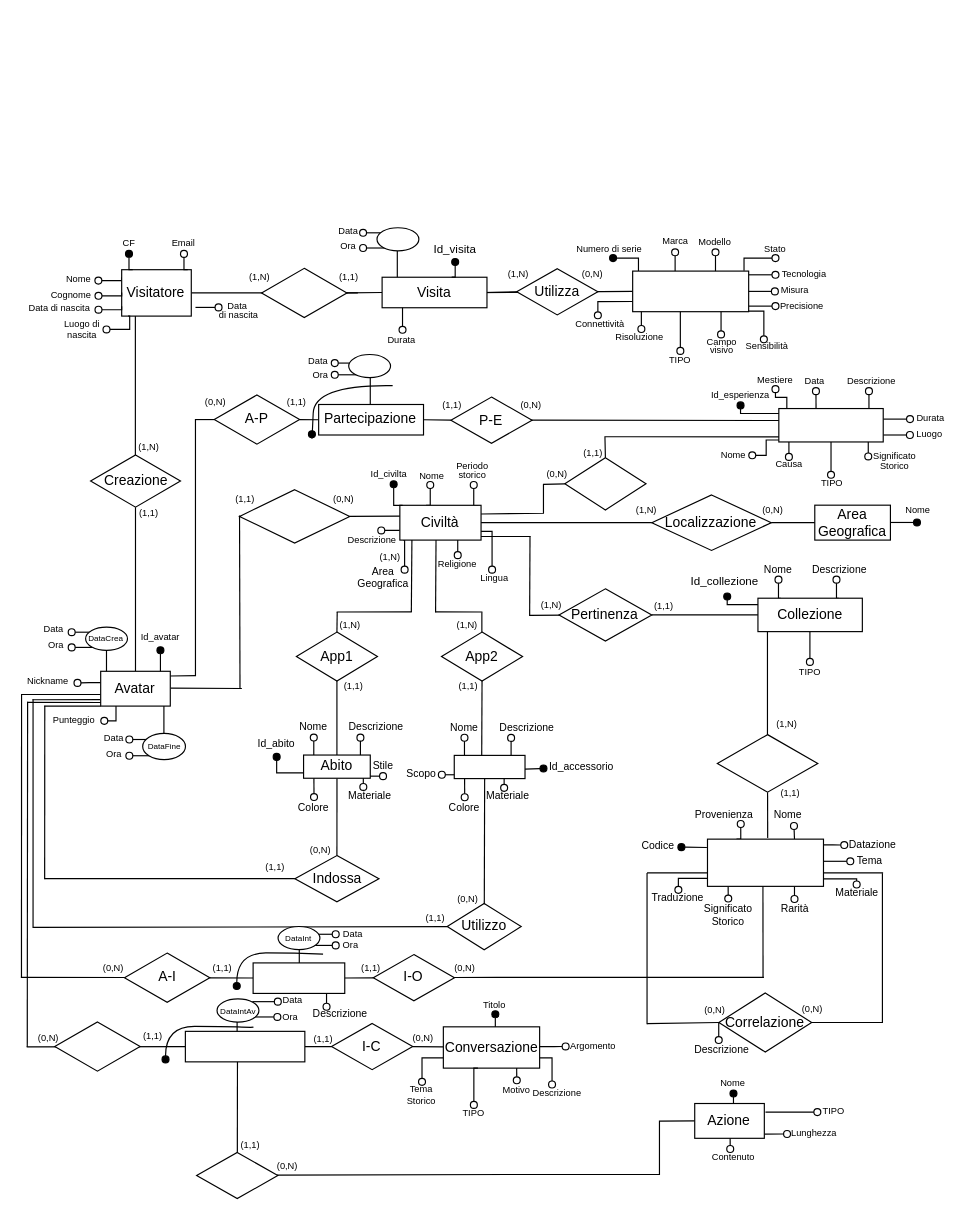
This 973x1219 diagram has some shape labels left out. Each missing label, with the centre of its shape:
"A-Int" goes at (x=97, y=1046).
"Accessorio" goes at (x=489, y=766).
"Contenimento" goes at (x=767, y=762).
"DataPart" goes at (x=369, y=365).
"DataVisita" goes at (x=397, y=239).
"Esperienza" goes at (x=830, y=424).
"Esplorazione" goes at (x=294, y=516).
"I-A" goes at (x=236, y=1175).
"Interazione" goes at (x=298, y=977).
"InterazioneAvatar" goes at (x=244, y=1046).
"Offerta" goes at (x=605, y=483).
"Oggetti Informatici" goes at (x=690, y=291).
"Oggetto" goes at (x=764, y=862).
"Sostiene" goes at (x=303, y=292).
